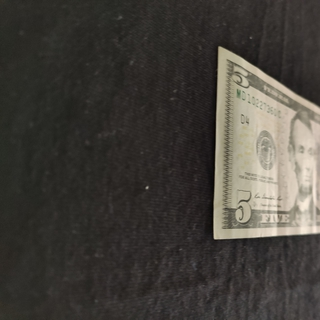5USDFront: (211, 46, 320, 239)
